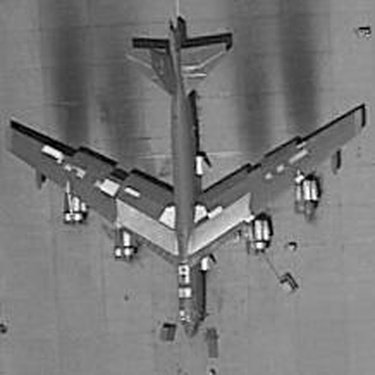airplane: (9, 8, 367, 362)
